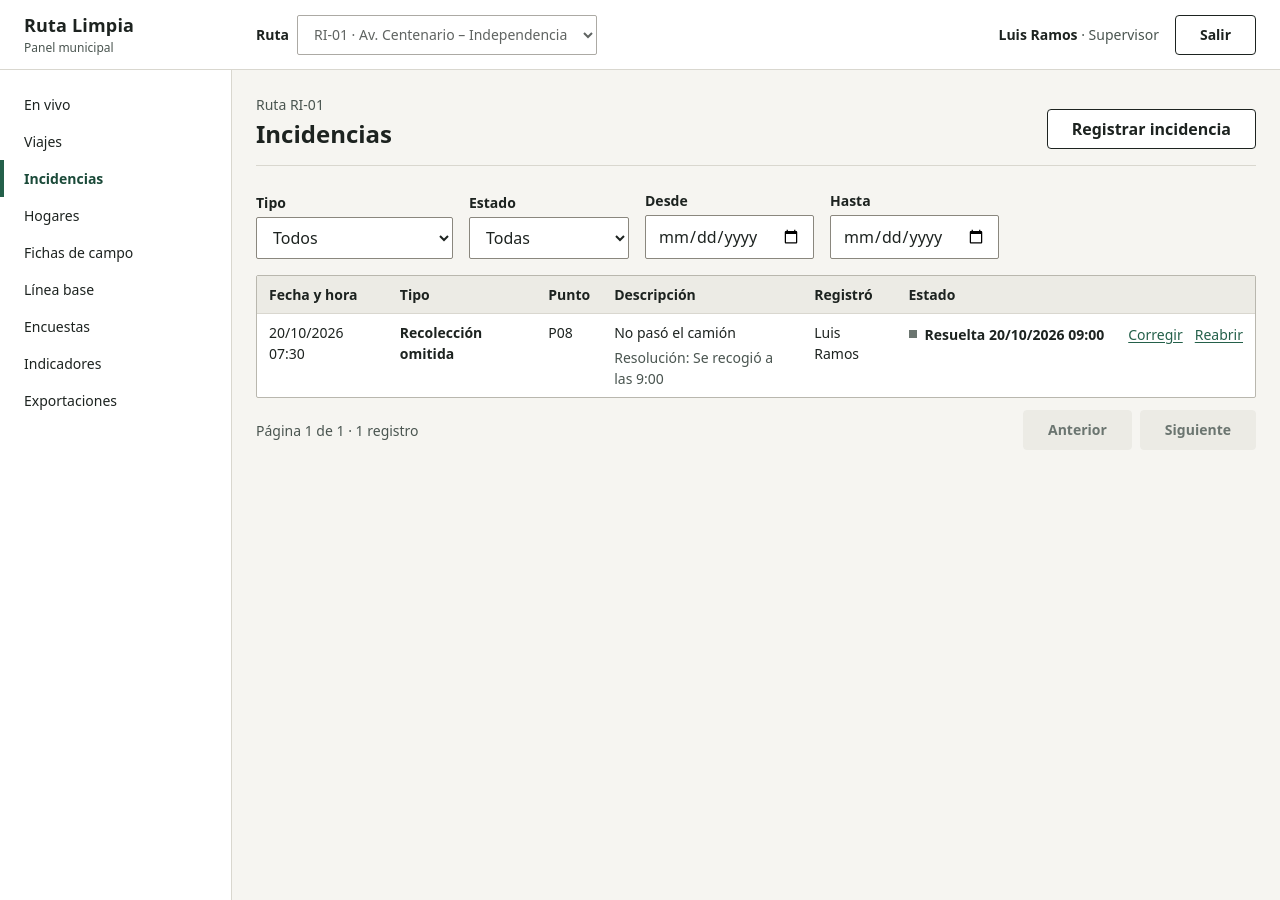
Test: IncidentsPage › reopens a resolved incident once, however often the button is pressed
The image size is (1280, 900).
Later steps or results of the test are not shown.
Click the button named "Reabrir Recolección omitida" at (1219, 334), box [1195,322,1243,346]
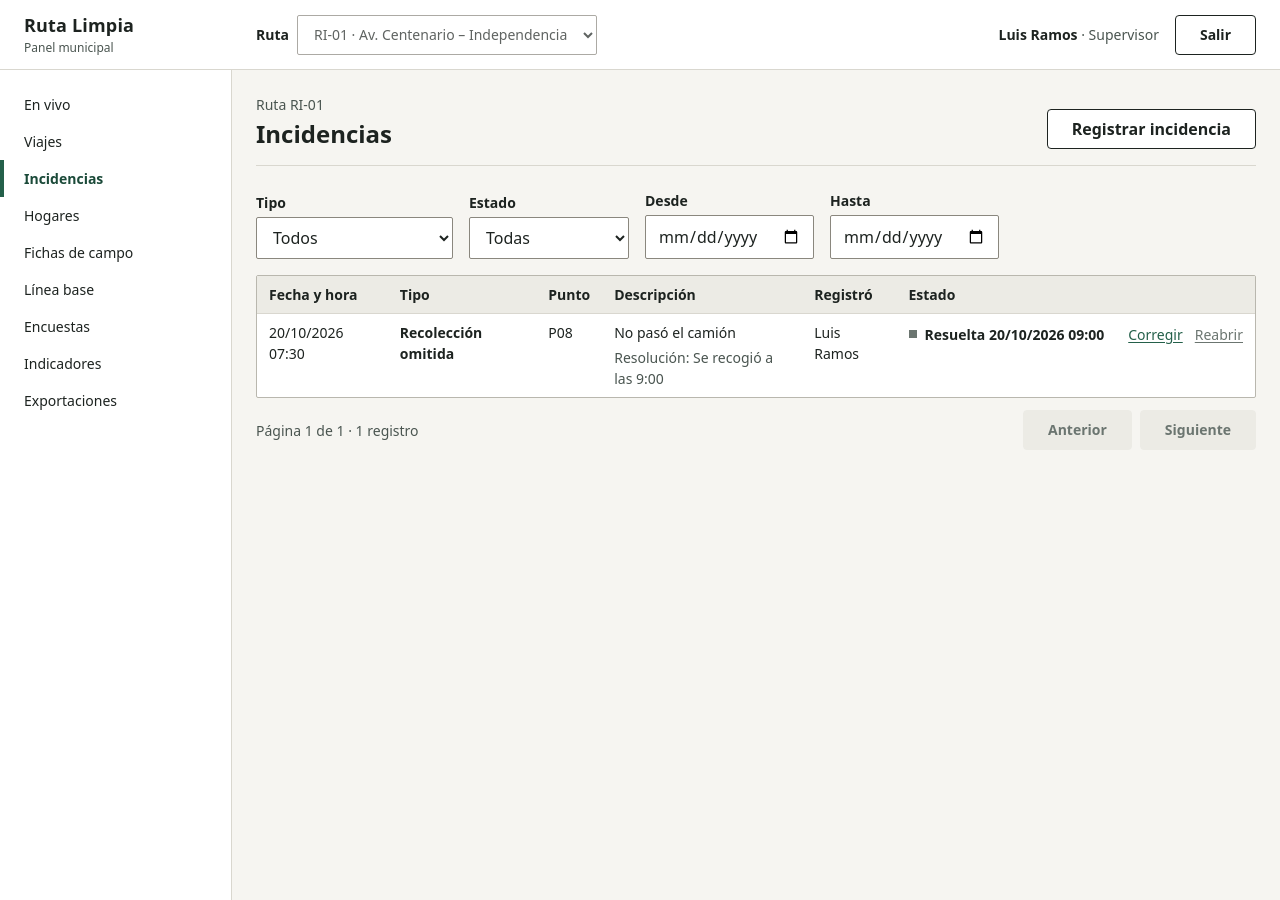
Click the button named "Reabrir Recolección omitida" at (1219, 334), box [1195,322,1243,346]
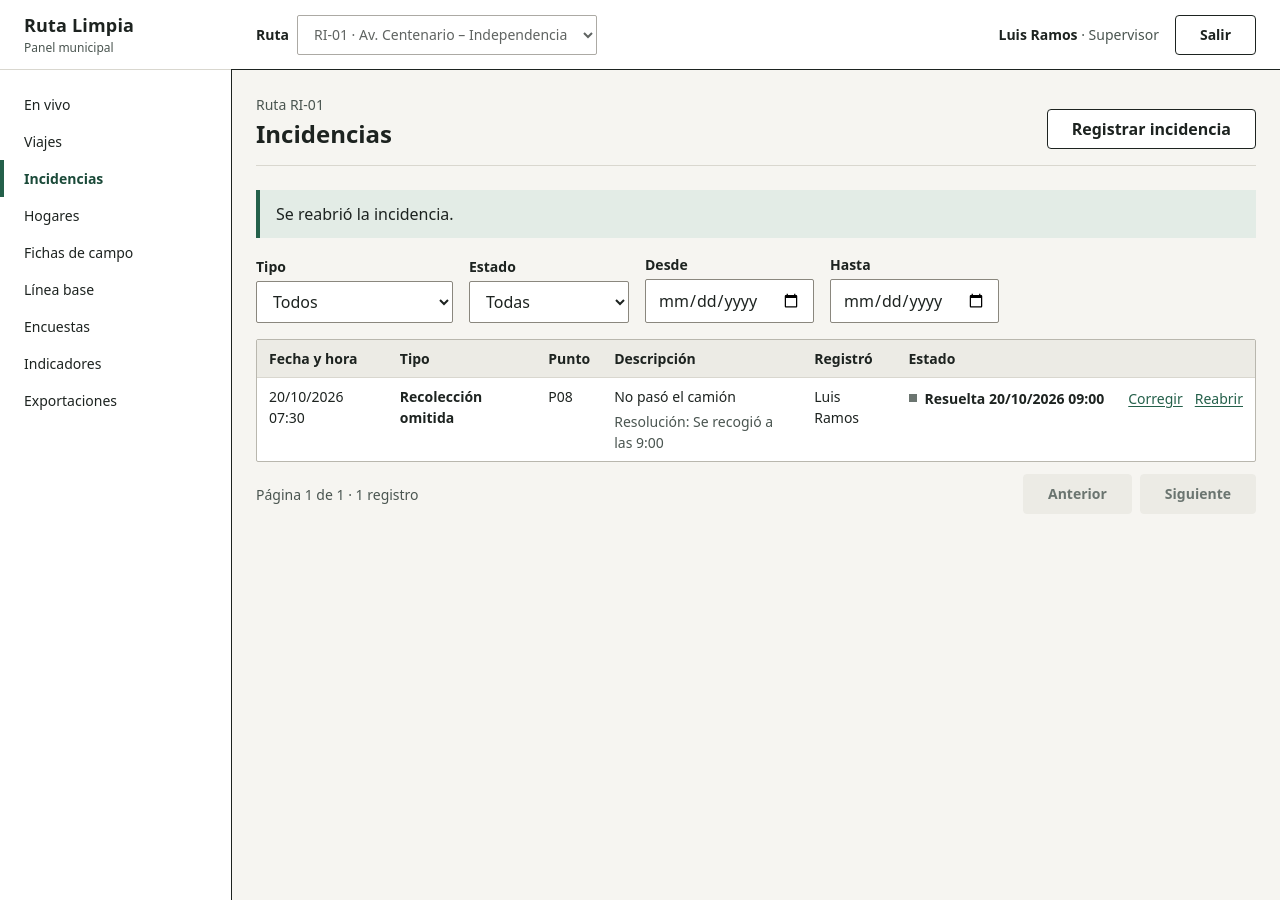
Expected: the text "Se reabrió la incidencia." is shown, [276,203,454,225]
